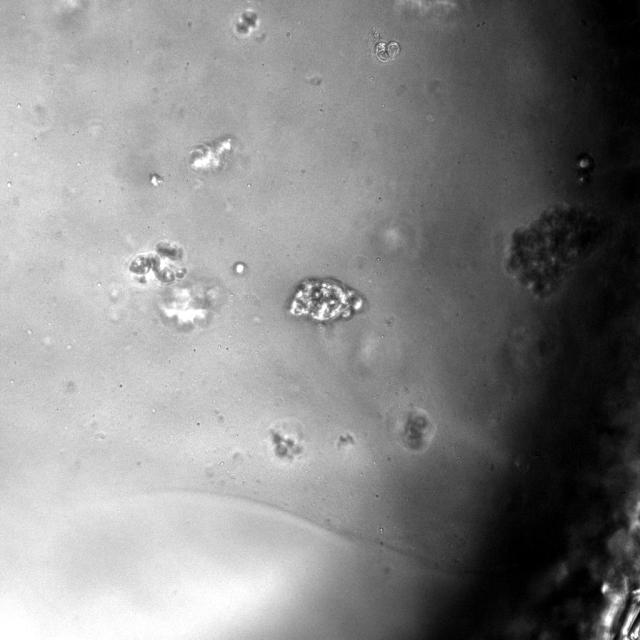organoid: (505, 205, 602, 298), (289, 277, 364, 323), (128, 239, 188, 285), (235, 10, 259, 35), (374, 41, 401, 61)
